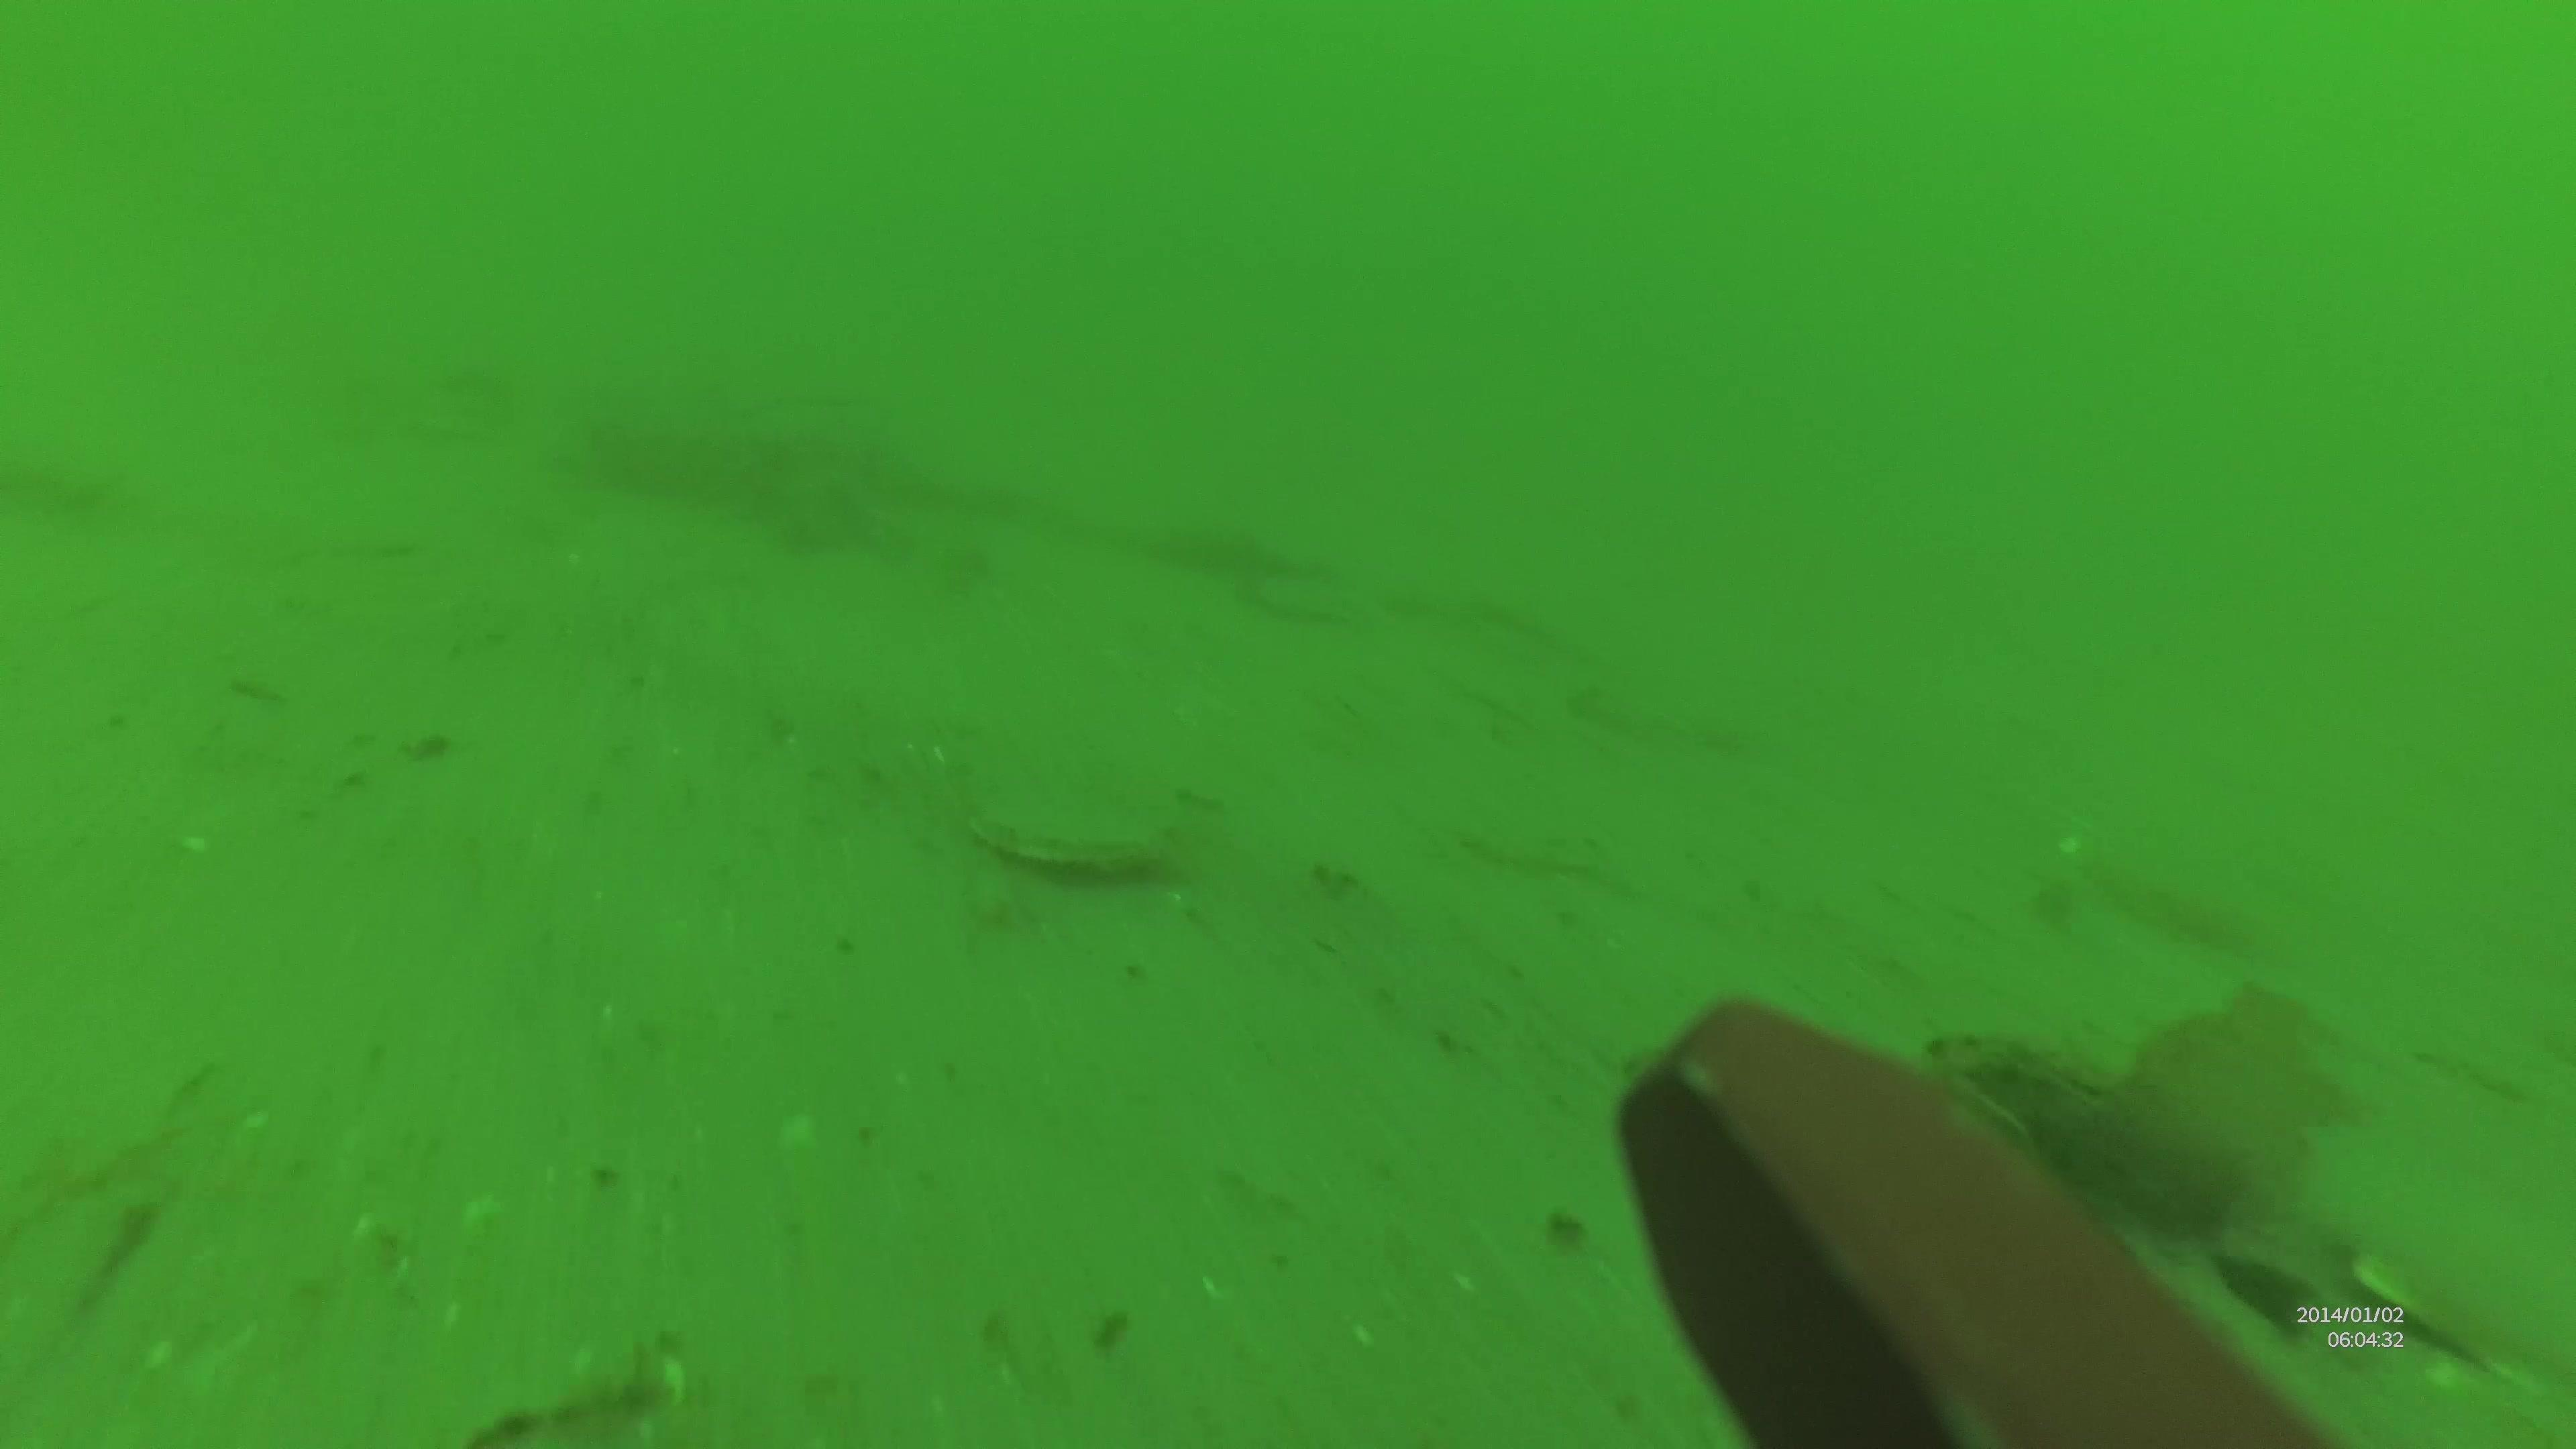scallop: (968, 787, 1180, 883)
